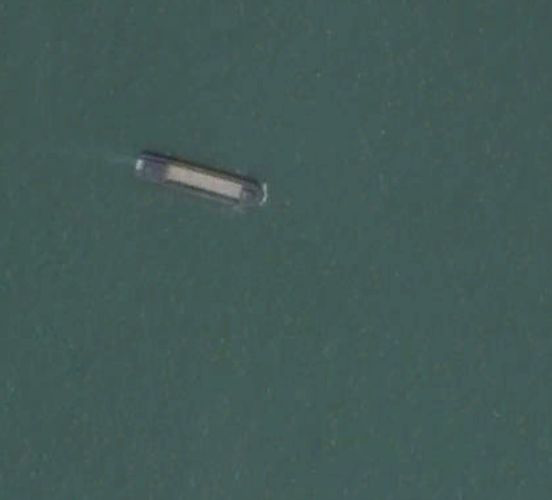boat: (133, 152, 265, 211)
